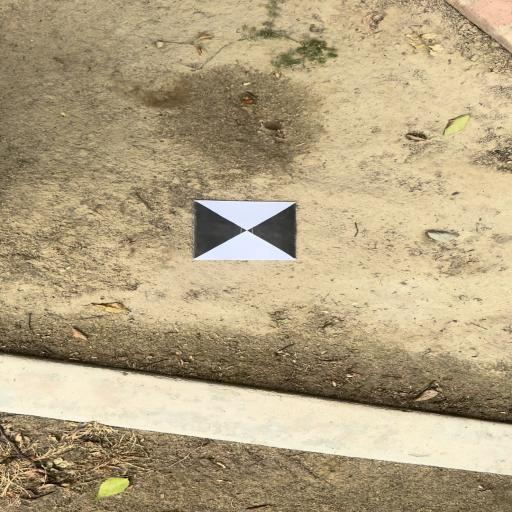target: (193, 200, 296, 260)
